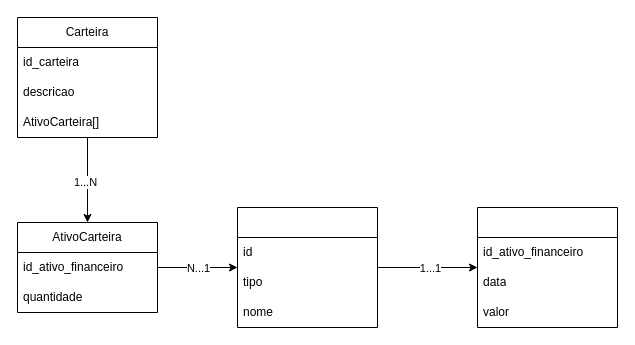
This 635x345 diagram has some shape labels left out. Here are the shapes that lost their labels. From the top down, the box of each, then its label:
(236, 206, 378, 328): AtivoFinanceiro
(476, 206, 618, 328): ValorAtivo
